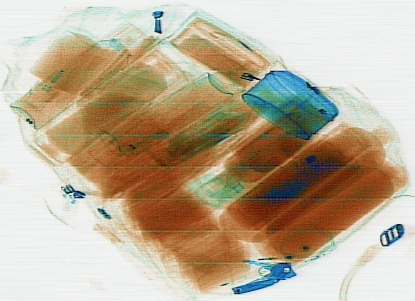pressure: (9, 18, 150, 131), (87, 72, 235, 162)
